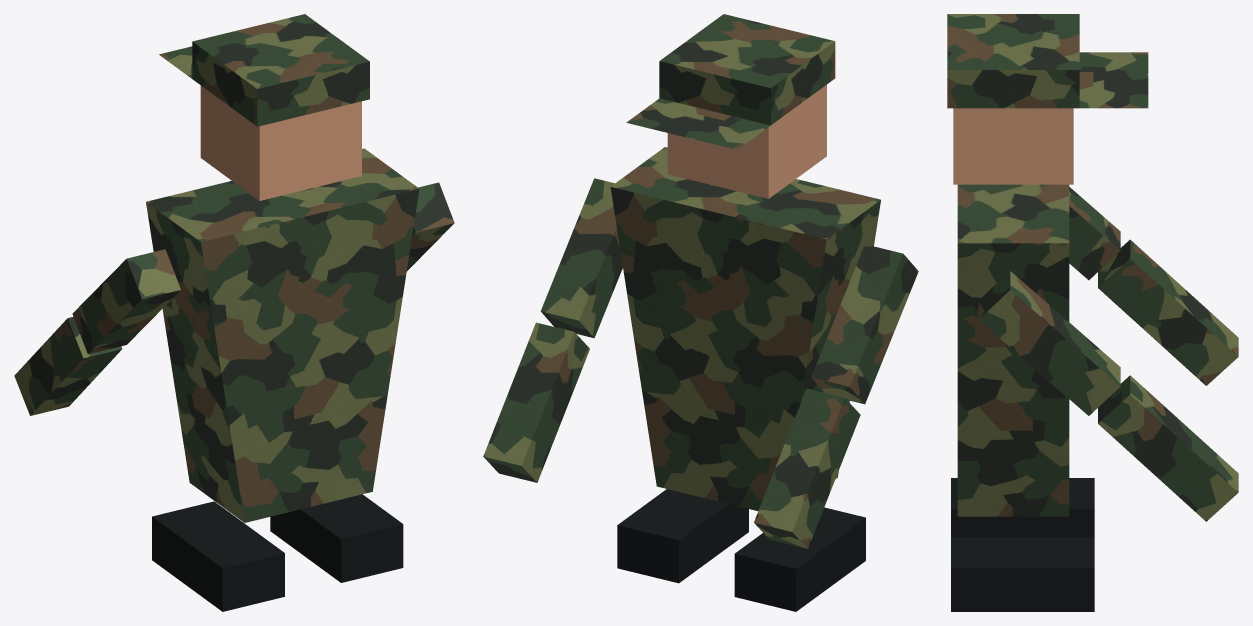
The model's file is militia_before_exposed_hands_20261018_162751_940197.glb.
The picture shows the model from 3 angles, left to right: view 1: azimuth 30°, elevation 25°; view 2: azimuth 150°, elevation 25°; view 3: azimuth 270°, elevation 25°; orthographic projection. The views are drawn at different scales.
Parts seen in each view (by area): view 1: body.002, hat.003, head.001, ShoeLeft.007, ShoeRight.006, armLeft.008, handLeft.009, armRight.004; view 2: body.002, hat.003, handLeft.009, handRight.005, armLeft.008, head.001, ShoeRight.006, ShoeLeft.007, armRight.004; view 3: body.002, hat.003, ShoeRight.006, head.001, armRight.004, handLeft.009, handRight.005, ShoeLeft.007, armLeft.008.
Boxes of the visible parts, x1,y1,x2,y2 form: body.002: (146, 148, 419, 522); hat.003: (159, 14, 369, 126); head.001: (200, 85, 361, 200); ShoeLeft.007: (152, 501, 284, 611); ShoeRight.006: (270, 494, 403, 582); armLeft.008: (72, 249, 180, 354); handLeft.009: (14, 316, 122, 415); armRight.004: (406, 182, 454, 271); body.002: (610, 147, 880, 510); hat.003: (626, 14, 835, 149); handLeft.009: (754, 388, 860, 548); handRight.005: (483, 322, 589, 482); armLeft.008: (811, 244, 918, 404); head.001: (667, 84, 826, 198); ShoeRight.006: (617, 489, 748, 583); ShoeLeft.007: (734, 507, 865, 611); armRight.004: (540, 178, 622, 338); body.002: (957, 184, 1069, 516); hat.003: (947, 14, 1148, 108); ShoeRight.006: (951, 536, 1094, 611); head.001: (953, 108, 1073, 184); armRight.004: (978, 271, 1120, 415); handLeft.009: (1098, 239, 1238, 385); handRight.005: (1098, 375, 1238, 521); ShoeLeft.007: (951, 478, 1094, 536); armLeft.008: (1069, 187, 1120, 280).
Size of the model in its own units: 1.02 by 1.61 by 0.8095.
Materials: 3 (1 with a texture image).
